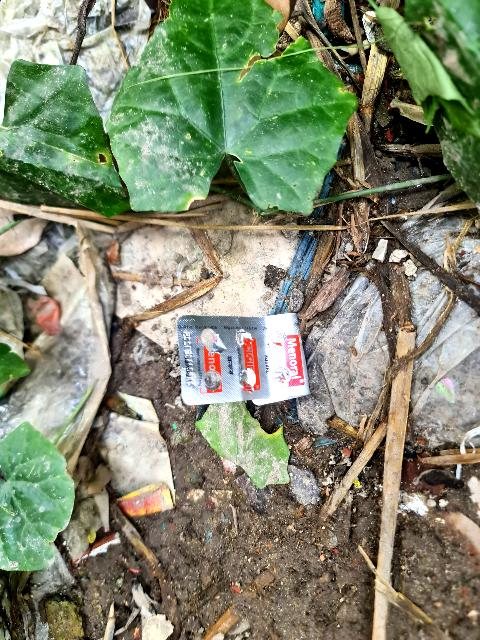medicine: (168, 310, 318, 414)
